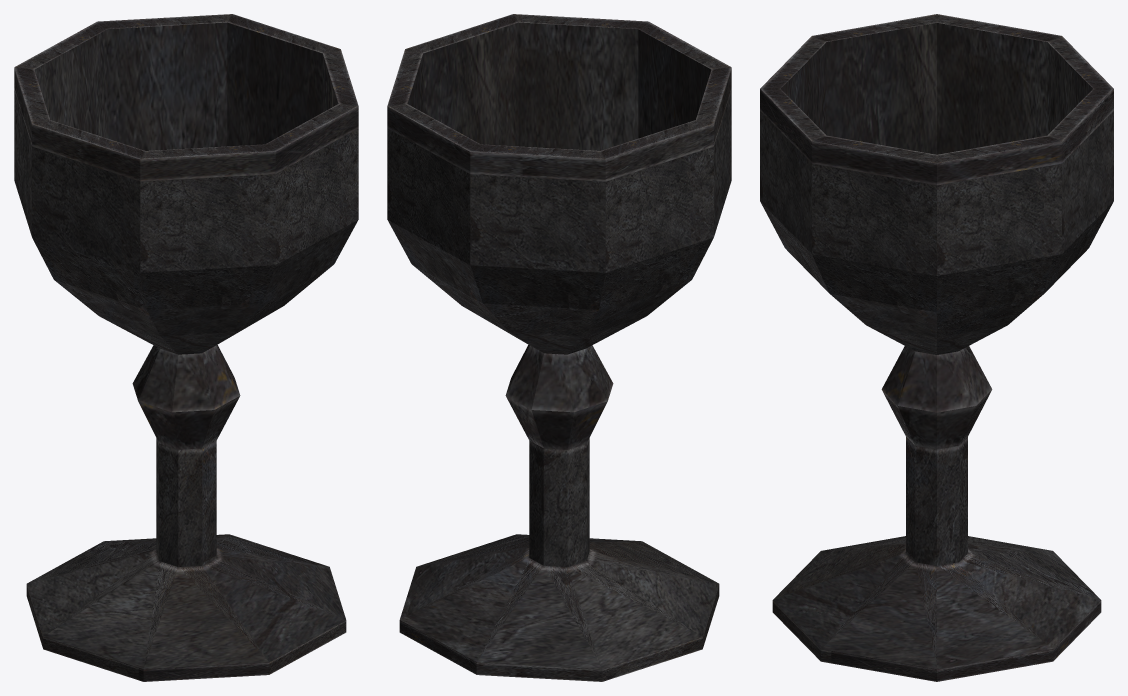
File: tavern_cup.dae
3 renders of one model, left to right at view 1: azimuth 30°, elevation 25°; view 2: azimuth 150°, elevation 25°; view 3: azimuth 270°, elevation 25°, orthographic.
Visible parts, largest first — view 1: Default_Layer; view 2: Default_Layer; view 3: Default_Layer.
Boxes of the visible parts, box(x1,y1,x2,y2) form: Default_Layer: box(14, 14, 358, 681); Default_Layer: box(387, 14, 731, 681); Default_Layer: box(760, 14, 1113, 681).
Bounding box in the file's own units: 0.7576 × 1.24 × 0.7576.
